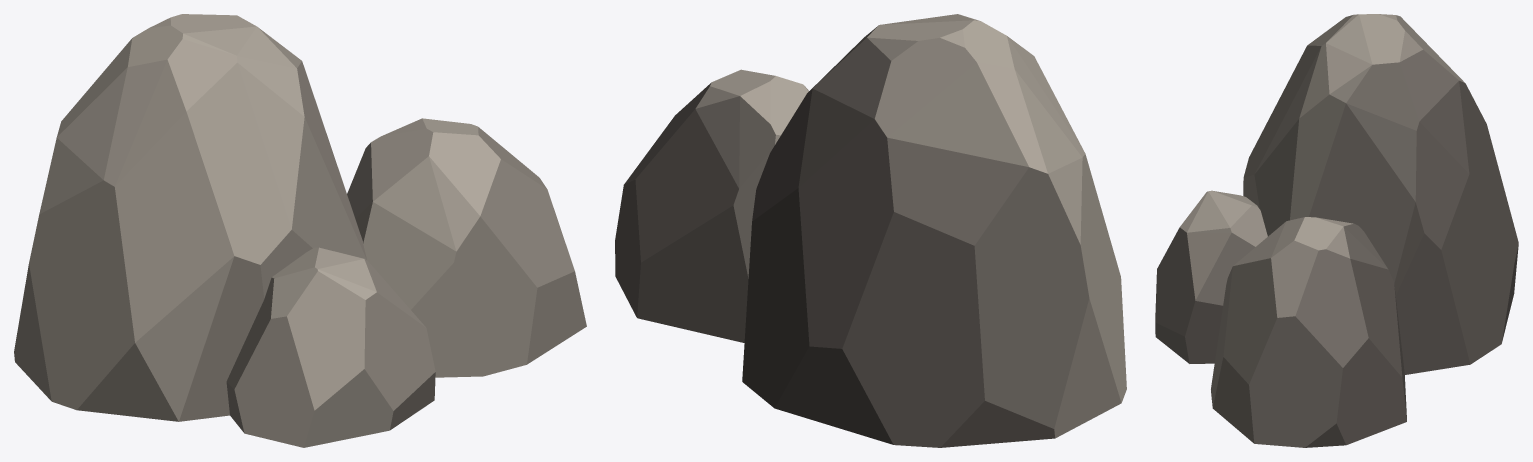
Rendered from FMS_Rock_Cluster.fbx.
The picture shows the model from 3 angles, left to right: view 1: azimuth 30°, elevation 25°; view 2: azimuth 150°, elevation 25°; view 3: azimuth 270°, elevation 25°; orthographic projection. The views are drawn at different scales.
Visible parts, largest first — view 1: FMS_Rock_Cluster; view 2: FMS_Rock_Cluster; view 3: FMS_Rock_Cluster.
Boxes of the visible parts, bbox=[...] form: FMS_Rock_Cluster: bbox=[14, 14, 586, 447]; FMS_Rock_Cluster: bbox=[615, 14, 1126, 447]; FMS_Rock_Cluster: bbox=[1155, 14, 1518, 447].
Size of the model in its own units: 2 by 1.3 by 1.5.
